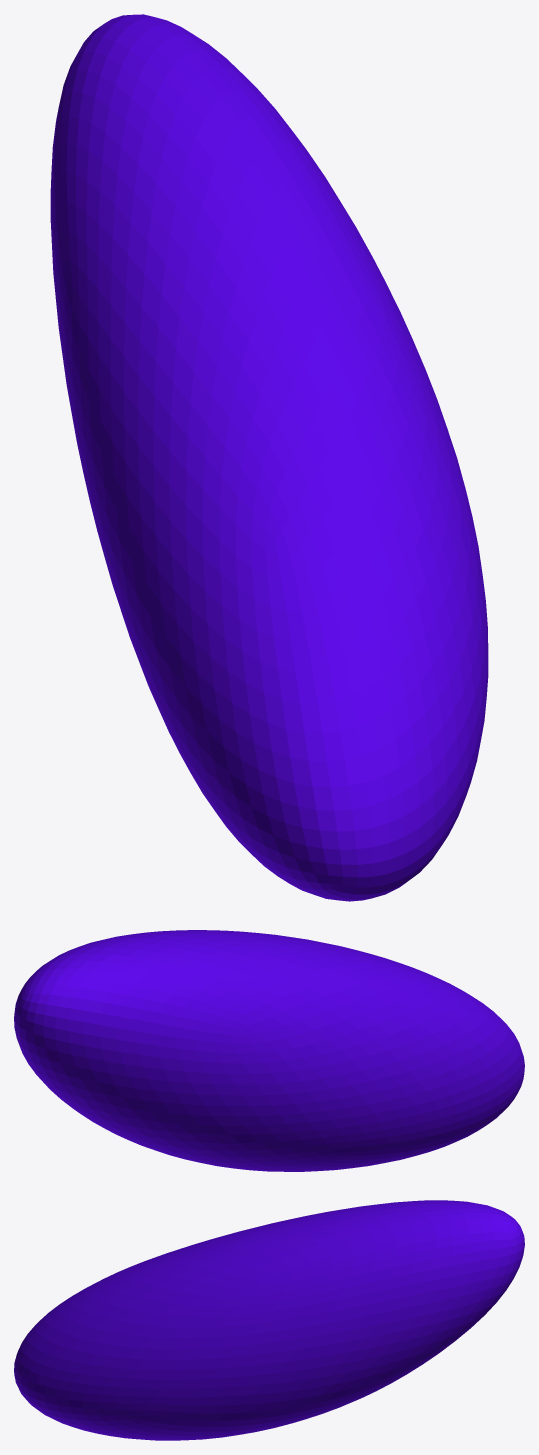
File: pebble.glb
3 views of the same model, one above another, from view 1: azimuth 30°, elevation 25°; view 2: azimuth 150°, elevation 25°; view 3: azimuth 270°, elevation 25° (orthographic). The views are drawn at different scales.
Parts seen in each view (by area): view 1: Cube; view 2: Cube; view 3: Cube.
Part boxes in pixels (<box>): Cube: <box>50,14,488,901</box>; Cube: <box>14,930,524,1171</box>; Cube: <box>14,1200,524,1440</box>.
Size of the model in its own units: 2.01 by 2.46 by 4.37.
